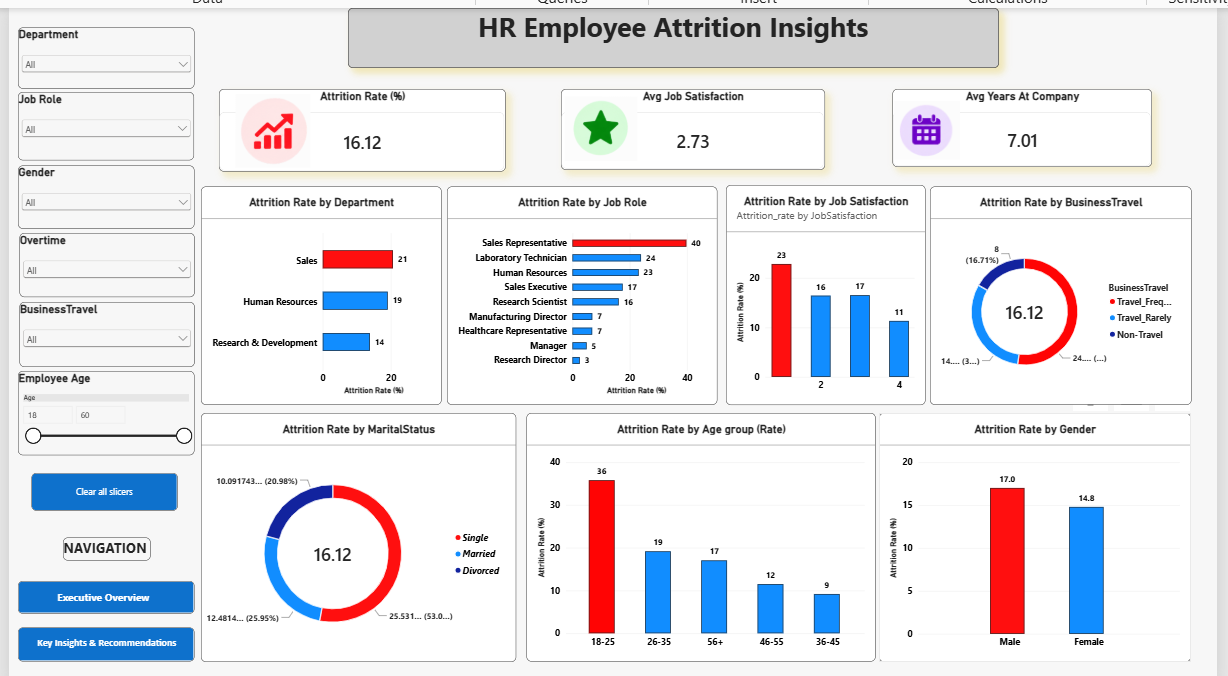

This screenshot's page, from the dashboard's own definition file:
{"tool":"powerbi","page":{"name":"ATTRITION INSIGHTS","canvas":[1920,1080],"ordinal":2},"visuals":[{"type":"textbox","box":[540,0,1035,95],"z":0},{"type":"cardVisual","title":"Avg Job Satisfaction","fields":{"Data":["Avg(hr_analytics hr_attrition.JobSatisfaction)"]},"box":[878,128.8,419.9,128.8],"z":1000},{"type":"cardVisual","title":"Attrition Rate (%)","fields":{"Data":["hr_analytics hr_attrition.Attrition_rate"]},"box":[334,128.8,455.7,131.2],"z":2000},{"type":"cardVisual","title":"Avg Years At Company","fields":{"Data":["Avg(hr_analytics hr_attrition.YearsAtCompany)"]},"box":[1405.3,128.8,412.8,124.1],"z":3000},{"type":"clusteredBarChart","title":"Attrition Rate by Department","fields":{"Category":["hr_analytics hr_attrition.Department"],"Y":["hr_analytics hr_attrition.Attrition_rate"]},"box":[305,283.8,382.5,347.5],"z":4000},{"type":"clusteredBarChart","title":"Attrition Rate by Job Role","fields":{"Category":["hr_analytics hr_attrition.JobRole"],"Y":["hr_analytics hr_attrition.Attrition_rate"]},"box":[696.7,283.9,430,347.5],"z":5000},{"type":"columnChart","title":"Attrition Rate by Gender","fields":{"Category":["hr_analytics hr_attrition.Gender"],"Y":["hr_analytics hr_attrition.Attrition_rate"]},"box":[1383.8,644.2,496,396],"z":6000},{"type":"donutChart","title":"Attrition Rate by MaritalStatus","fields":{"Category":["hr_analytics hr_attrition.MaritalStatus"],"Y":["hr_analytics hr_attrition.Attrition_rate"]},"box":[305.4,644.2,501,396.1],"z":7000},{"type":"donutChart","title":"Attrition Rate by BusinessTravel","fields":{"Category":["hr_analytics hr_attrition.BusinessTravel"],"Y":["hr_analytics hr_attrition.Attrition_rate"]},"box":[1465,285,416.2,347.5],"z":8000},{"type":"columnChart","title":" Attrition Rate by Age group (Rate)","fields":{"Category":["hr_analytics hr_attrition.Age Group"],"Y":["hr_analytics hr_attrition.Attrition_rate"]},"box":[822.5,645,555,395],"z":9000},{"type":"slicer","title":"Department","fields":{"Values":["hr_analytics hr_attrition.Department"]},"box":[14.2,31.7,280.8,97.5],"z":10000},{"type":"slicer","title":"Job Role","fields":{"Values":["hr_analytics hr_attrition.JobRole"]},"box":[15,133.3,280,108.3],"z":11000},{"type":"slicer","title":"Gender","fields":{"Values":["hr_analytics hr_attrition.Gender"]},"box":[14.2,250.8,280.8,100.8],"z":12000},{"type":"slicer","title":"Overtime","fields":{"Values":["hr_analytics hr_attrition.OverTime"]},"box":[16.7,357.5,278.3,101.7],"z":13000},{"type":"slicer","title":"BusinessTravel","fields":{"Values":["hr_analytics hr_attrition.BusinessTravel"]},"box":[16.7,467.5,278.3,103.3],"z":14000},{"type":"slicer","title":"Employee Age","fields":{"Values":["hr_analytics hr_attrition.Age"]},"box":[14.2,577.5,280.8,134.2],"z":15000},{"type":"actionButton","box":[35,740,232.5,60],"z":16000},{"type":"columnChart","title":" Attrition Rate by Job Satisfaction","fields":{"Y":["hr_analytics hr_attrition.Attrition_rate"],"Category":["hr_analytics hr_attrition.JobSatisfaction"]},"box":[1140,282.5,317.5,350],"z":17000},{"type":"image","box":[1405.3,147.9,109.8,93.1],"z":18000},{"type":"image","box":[877.5,140,127.5,102.5],"z":19000},{"type":"image","box":[360.3,133.6,119.3,124.1],"z":20000},{"type":"textbox","box":[85,842.5,139.2,36.7],"z":21000},{"type":"actionButton","box":[15,985.8,280.8,54.2],"z":22000},{"type":"actionButton","box":[15,912.5,280.8,51.7],"z":23000},{"type":"textbox","box":[28,999,254,28],"z":24000},{"type":"textbox","box":[76.7,925.8,147.5,25],"z":25000}]}

Visuals, with their boxes on the page's 1920x1080 design canvas (x1, y1, x2, y2). These are canvas units, not pixel positions in the 1228x676 screenshot, which may show the page scaled, cropped or inside an application window:
textbox: 540/0/1575/95
"Avg Job Satisfaction" cardVisual: 878/129/1298/258
"Attrition Rate (%)" cardVisual: 334/129/790/260
"Avg Years At Company" cardVisual: 1405/129/1818/253
"Attrition Rate by Department" clusteredBarChart: 305/284/688/631
"Attrition Rate by Job Role" clusteredBarChart: 697/284/1127/631
"Attrition Rate by Gender" columnChart: 1384/644/1880/1040
"Attrition Rate by MaritalStatus" donutChart: 305/644/806/1040
"Attrition Rate by BusinessTravel" donutChart: 1465/285/1881/632
" Attrition Rate by Age group (Rate)" columnChart: 822/645/1378/1040
"Department" slicer: 14/32/295/129
"Job Role" slicer: 15/133/295/242
"Gender" slicer: 14/251/295/352
"Overtime" slicer: 17/358/295/459
"BusinessTravel" slicer: 17/468/295/571
"Employee Age" slicer: 14/578/295/712
actionButton: 35/740/268/800
" Attrition Rate by Job Satisfaction" columnChart: 1140/282/1458/632
image: 1405/148/1515/241
image: 878/140/1005/242
image: 360/134/480/258
textbox: 85/842/224/879
actionButton: 15/986/296/1040
actionButton: 15/912/296/964
textbox: 28/999/282/1027
textbox: 77/926/224/951
